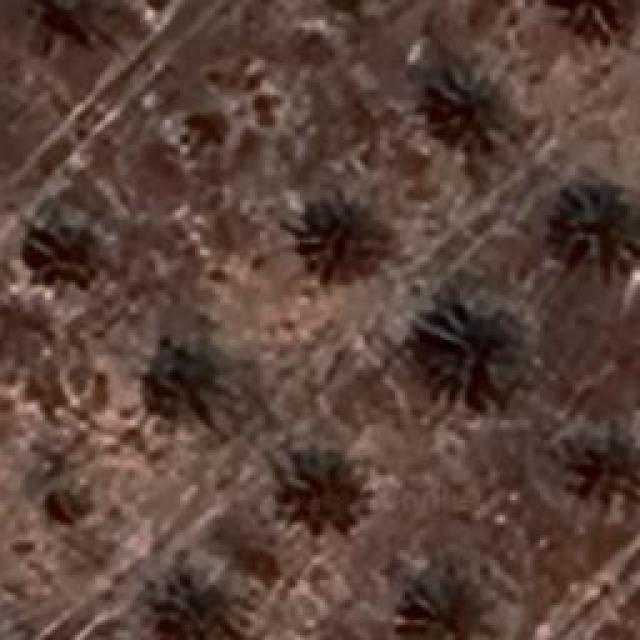PalmTree: (95, 60, 448, 606), (412, 300, 530, 400), (142, 335, 240, 423), (280, 445, 372, 530), (430, 59, 512, 152), (560, 178, 638, 260), (160, 570, 255, 635), (582, 416, 640, 512), (25, 225, 105, 293), (320, 192, 378, 276), (550, 0, 638, 38), (316, 0, 411, 16)
